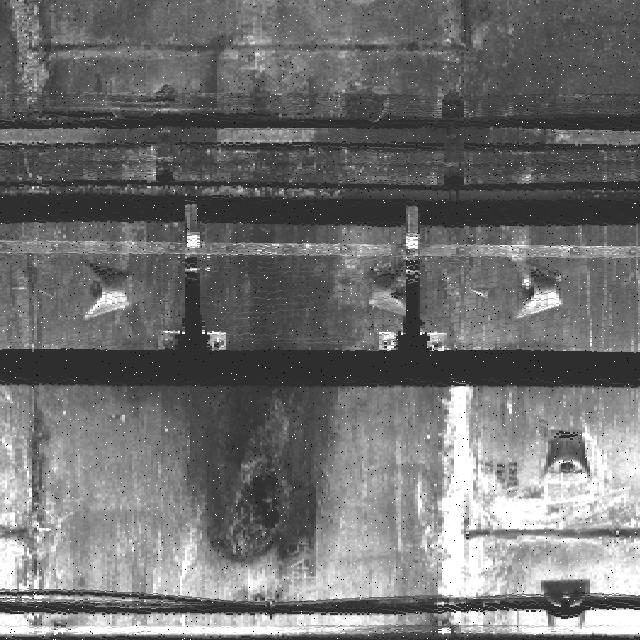leakage: (129, 385, 342, 569), (119, 223, 366, 355)
